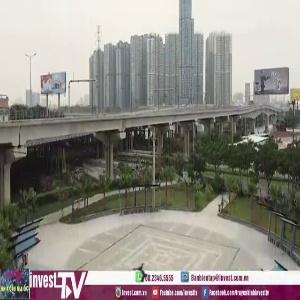drone: (122, 253, 165, 296)
